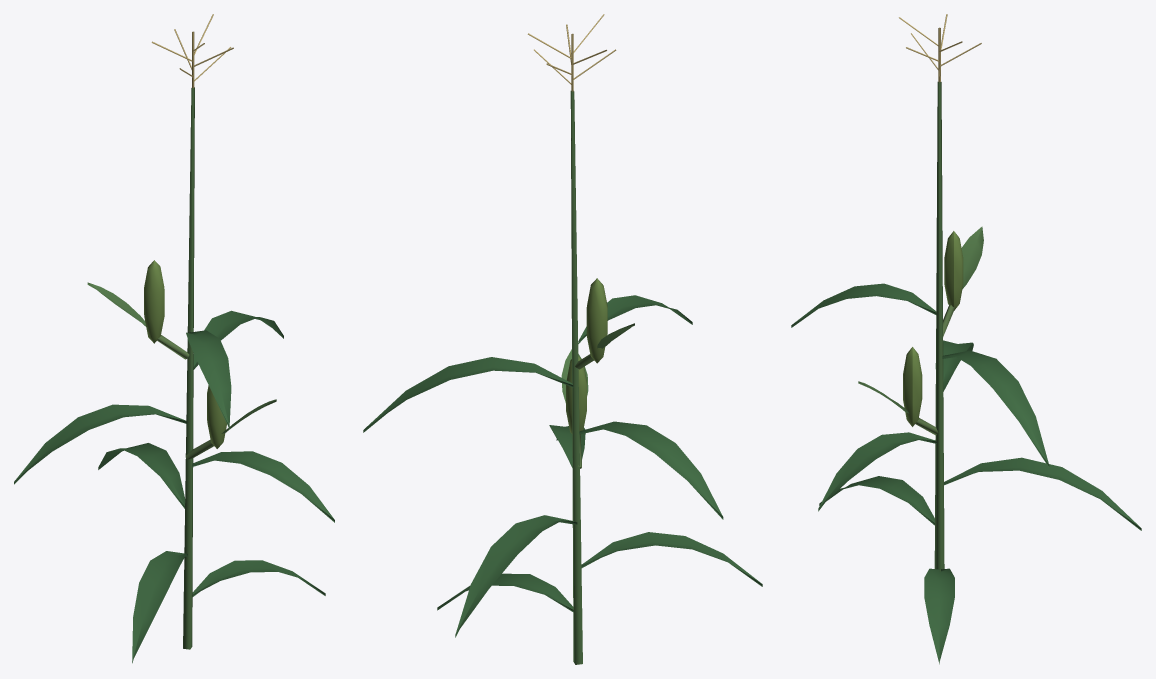
The model's file is maiz_suave.glb.
3 views of the same model, side by side, from view 1: azimuth 30°, elevation 25°; view 2: azimuth 150°, elevation 25°; view 3: azimuth 270°, elevation 25° (orthographic). The views are drawn at different scales.
Parts seen in each view (by area): view 1: maiz_suave; view 2: maiz_suave; view 3: maiz_suave.
Part boxes in pixels (x1,y1,x2,y2): maiz_suave: (14,14,334,663); maiz_suave: (363,14,762,664); maiz_suave: (791,14,1141,664).
Bounding box in the file's own units: 1.4 × 2.67 × 1.42.
